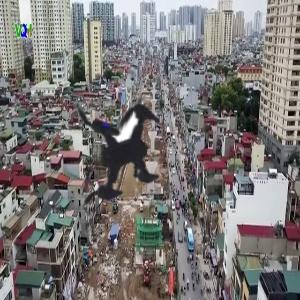drone: (16, 42, 246, 272)
